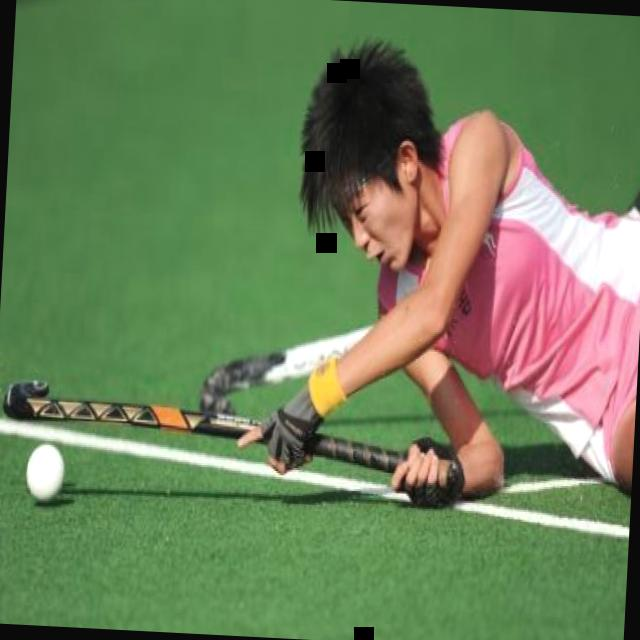Fall-Detected: (258, 0, 640, 531)
